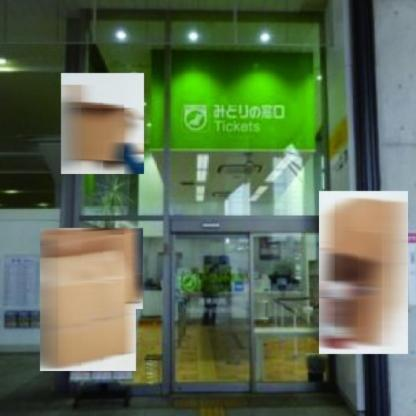-: (318, 188, 410, 358), (39, 246, 139, 373), (60, 72, 146, 177), (39, 227, 146, 311)
